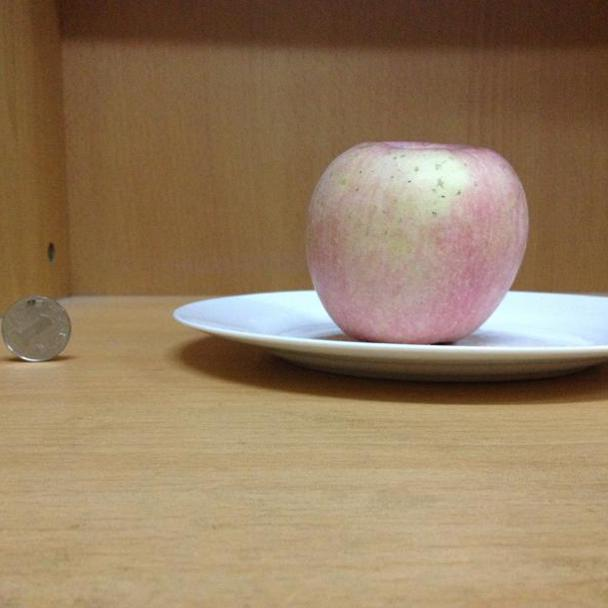apple: (303, 142, 528, 341)
